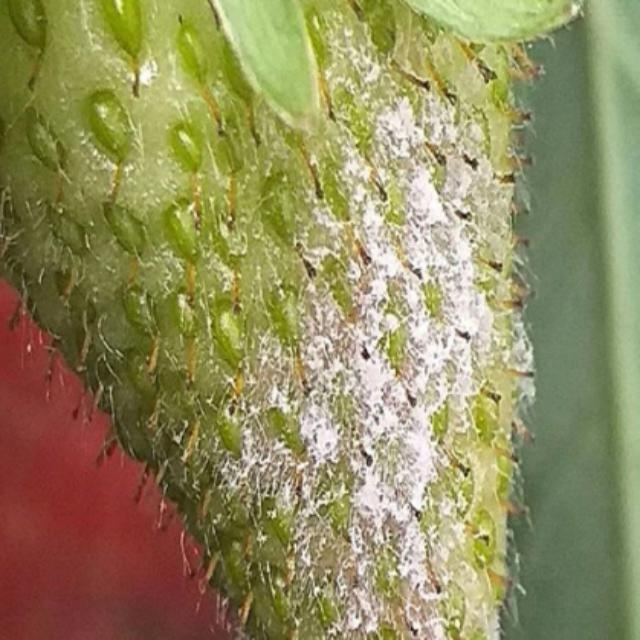Powdery Mildew Fruit: (43, 13, 539, 638)
